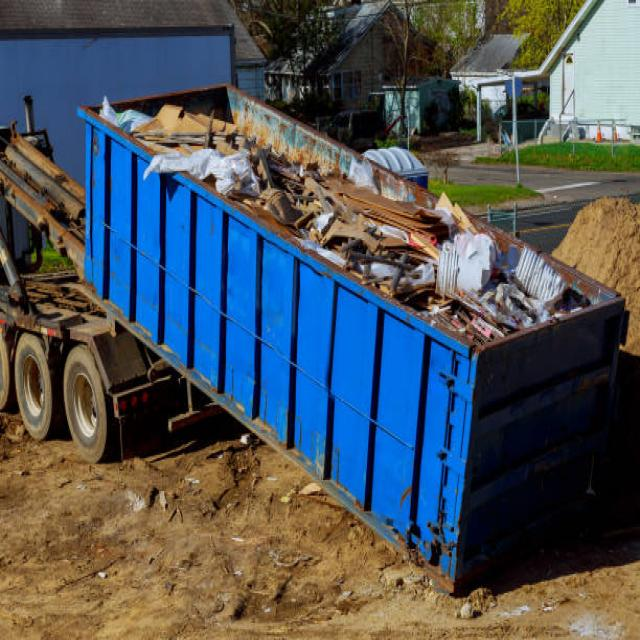trash: (192, 113, 288, 213)
